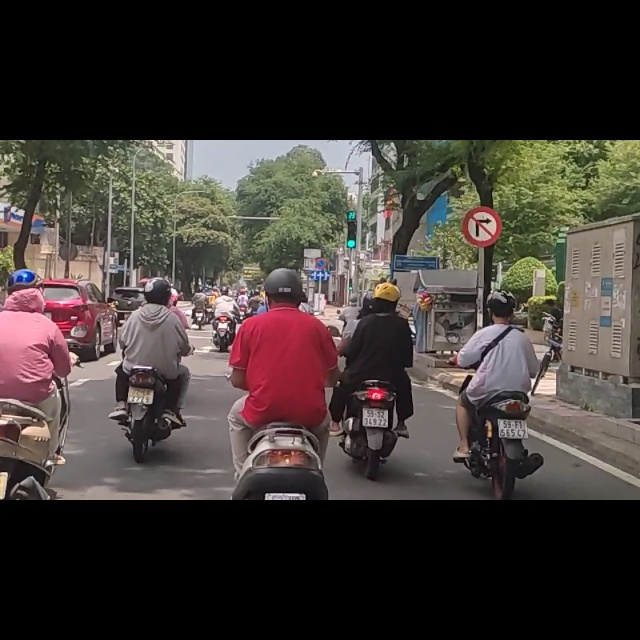bien_chi_dan: (463, 122, 499, 188), (315, 209, 327, 232)
